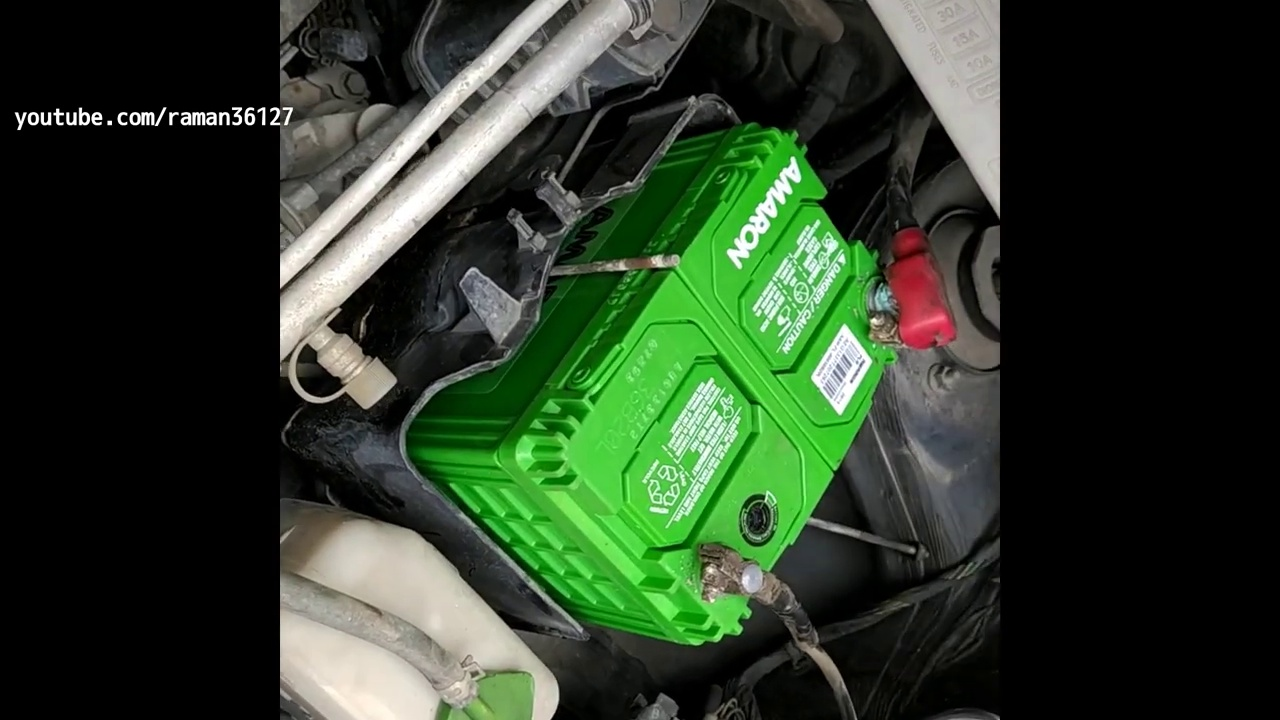battery: (510, 140, 960, 640)
neg_connected: (687, 519, 817, 645)
pos_connected: (840, 240, 971, 368)
